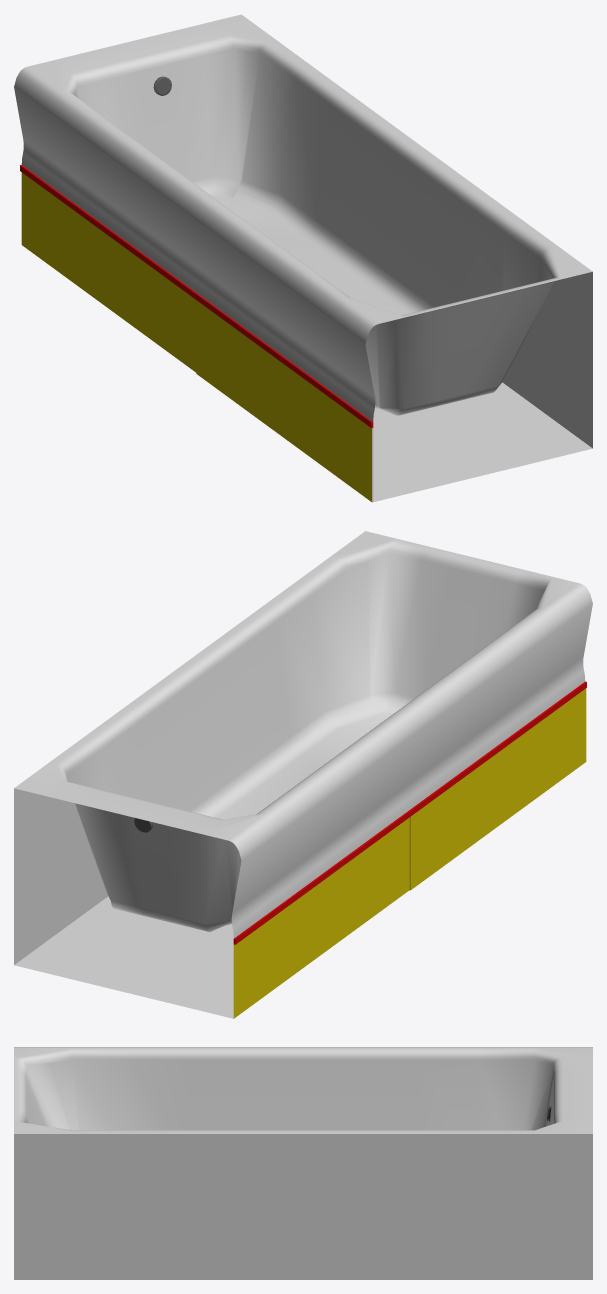
Rendered from Bath.FBX.
The picture shows the model from 3 angles, top to bottom: view 1: azimuth 30°, elevation 25°; view 2: azimuth 150°, elevation 25°; view 3: azimuth 270°, elevation 25°; orthographic projection. The views are drawn at different scales.
Visible parts, largest first — view 1: Box001; view 2: Box001; view 3: Box001.
Part boxes in pixels (left/top/right/bottom): Box001: left=14, top=14, right=592, bottom=502; Box001: left=14, top=531, right=592, bottom=1018; Box001: left=14, top=1047, right=592, bottom=1279.
Size of the model in its own units: 26.49 by 19.69 by 70.87.
